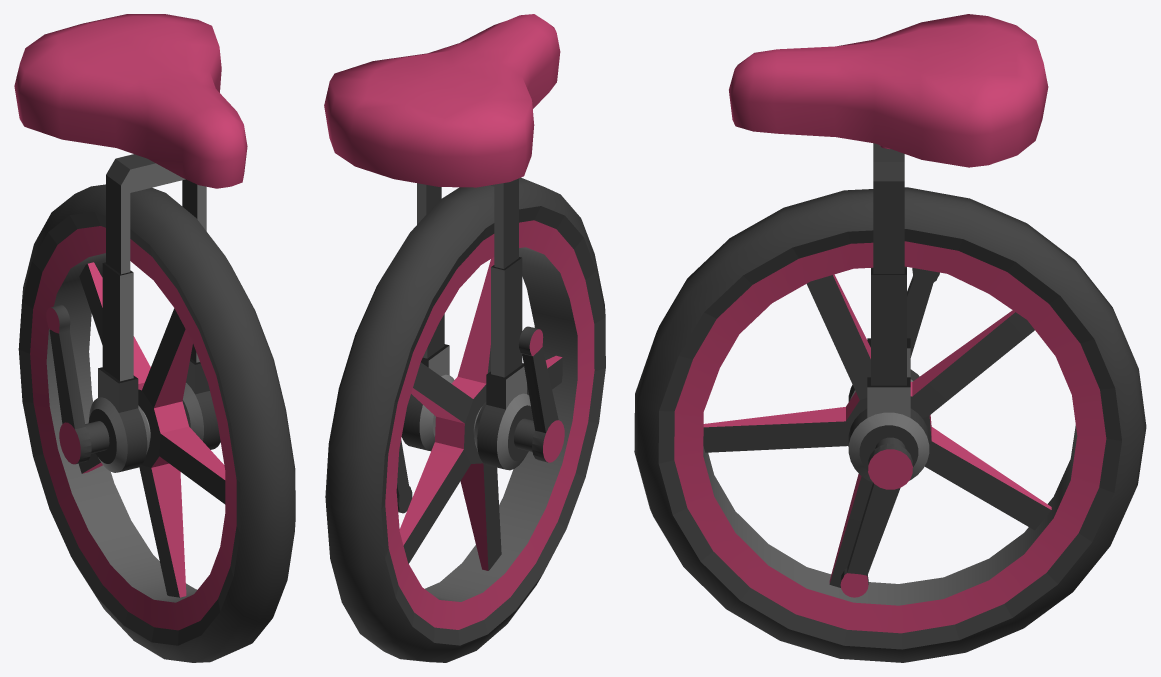
Rendered from Cycle.fbx.
3 renders of one model, left to right at view 1: azimuth 30°, elevation 25°; view 2: azimuth 150°, elevation 25°; view 3: azimuth 270°, elevation 25°, orthographic. The views are drawn at different scales.
Parts seen in each view (by area): view 1: one wheel cycle, Cycle Handel001, Object388; view 2: one wheel cycle, Cycle Handel001, Object388; view 3: one wheel cycle, Cycle Handel001, Object388.
Boxes of the visible parts, box(x1,y1,x2,y2) form: one wheel cycle: box(18, 184, 295, 662); Cycle Handel001: box(14, 14, 247, 472); Object388: box(46, 304, 109, 464); one wheel cycle: box(325, 177, 605, 662); Cycle Handel001: box(324, 14, 560, 470); Object388: box(396, 326, 564, 513); one wheel cycle: box(634, 187, 1146, 662); Cycle Handel001: box(729, 14, 1048, 482); Object388: box(840, 268, 939, 597).
Size of the model in its own units: 1.46 by 4.19 by 3.19.
